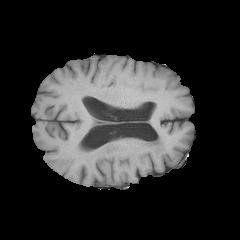glioma: (78, 136, 165, 169)
